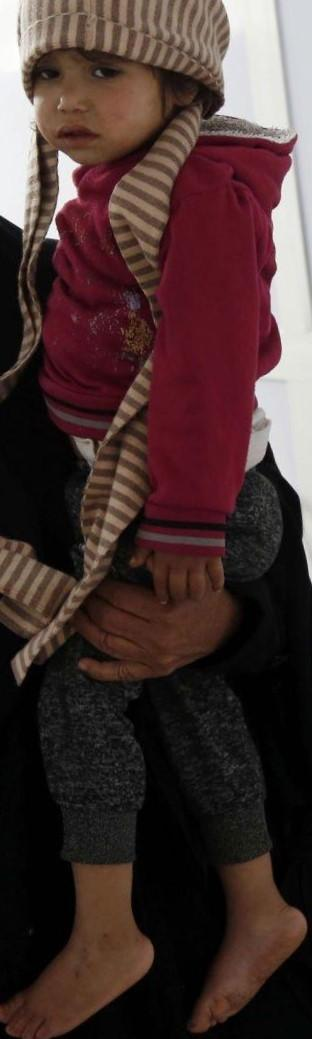Stunting: (0, 42, 245, 240)
